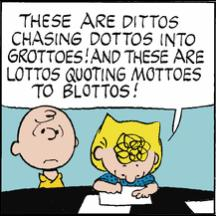charlie: (10, 104, 81, 190)
